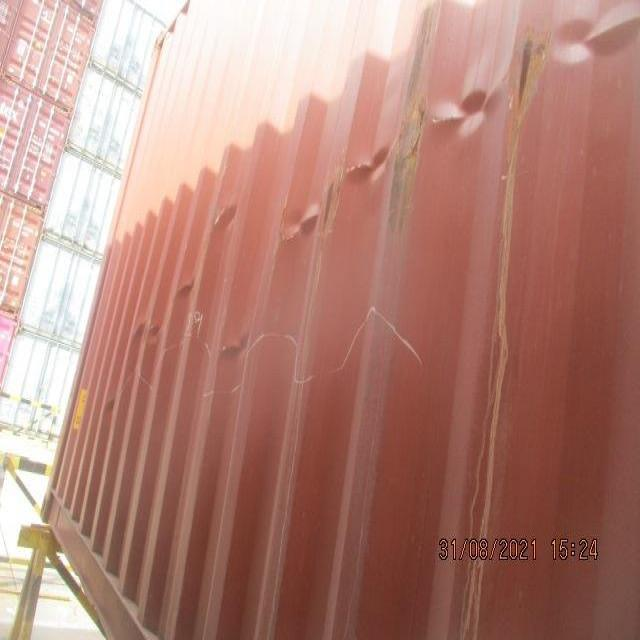Dent: (266, 0, 640, 264)
Minor-Dent: (120, 260, 277, 375)
